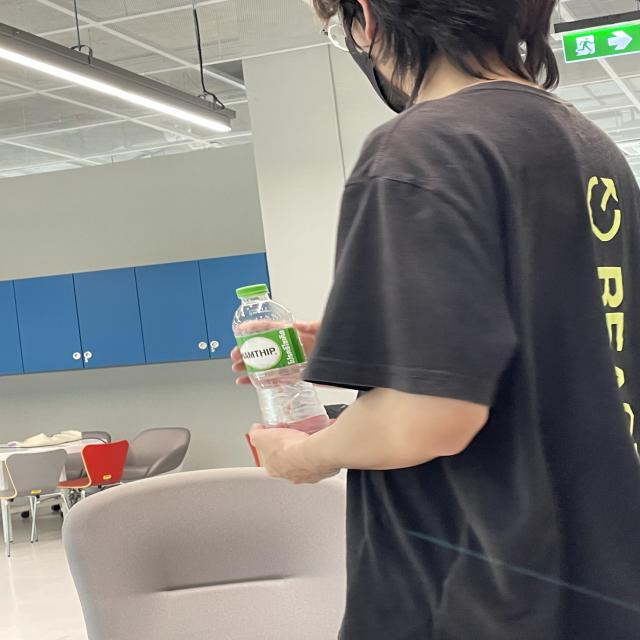bottle: (230, 278, 336, 453)
